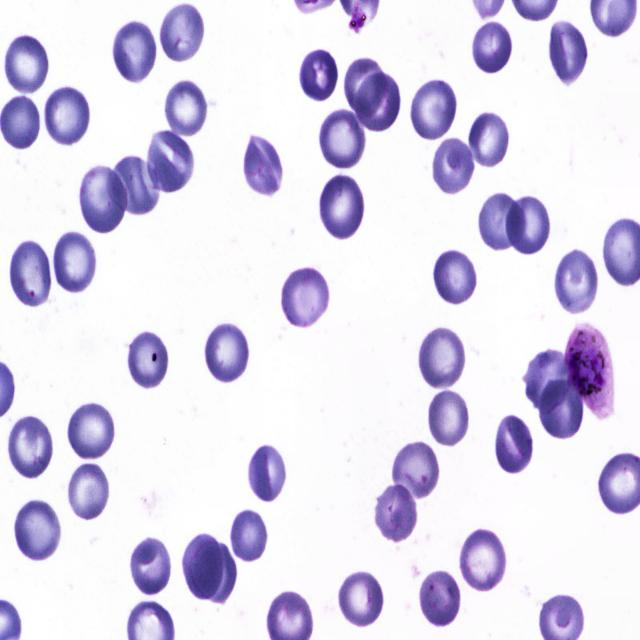red blood cell: (553, 246, 601, 319), (408, 76, 461, 142), (317, 172, 366, 243), (12, 494, 62, 563), (42, 81, 92, 150), (202, 319, 252, 387), (10, 237, 54, 314), (417, 324, 468, 390), (64, 398, 118, 460), (317, 105, 368, 170), (79, 166, 129, 232), (280, 266, 331, 330), (460, 528, 508, 595), (156, 5, 208, 66), (523, 349, 573, 412), (4, 30, 52, 95), (371, 483, 421, 545), (108, 156, 161, 214), (52, 230, 98, 296), (353, 71, 401, 134), (8, 416, 54, 481), (337, 567, 386, 628), (392, 439, 440, 501), (240, 134, 286, 198), (146, 131, 194, 192), (112, 20, 158, 83), (125, 330, 172, 391), (538, 379, 585, 439), (424, 392, 473, 448), (479, 193, 526, 251), (506, 197, 551, 257), (192, 544, 237, 602), (183, 533, 223, 597), (419, 570, 463, 628), (430, 138, 474, 196), (129, 537, 172, 596), (550, 14, 586, 84), (470, 22, 514, 79), (67, 462, 110, 520), (470, 110, 512, 168), (345, 57, 386, 116), (494, 414, 532, 477), (165, 80, 207, 137), (433, 251, 477, 305), (0, 95, 42, 151), (248, 442, 287, 501), (230, 507, 268, 562), (299, 48, 337, 100)
schizont: (562, 322, 614, 422)
